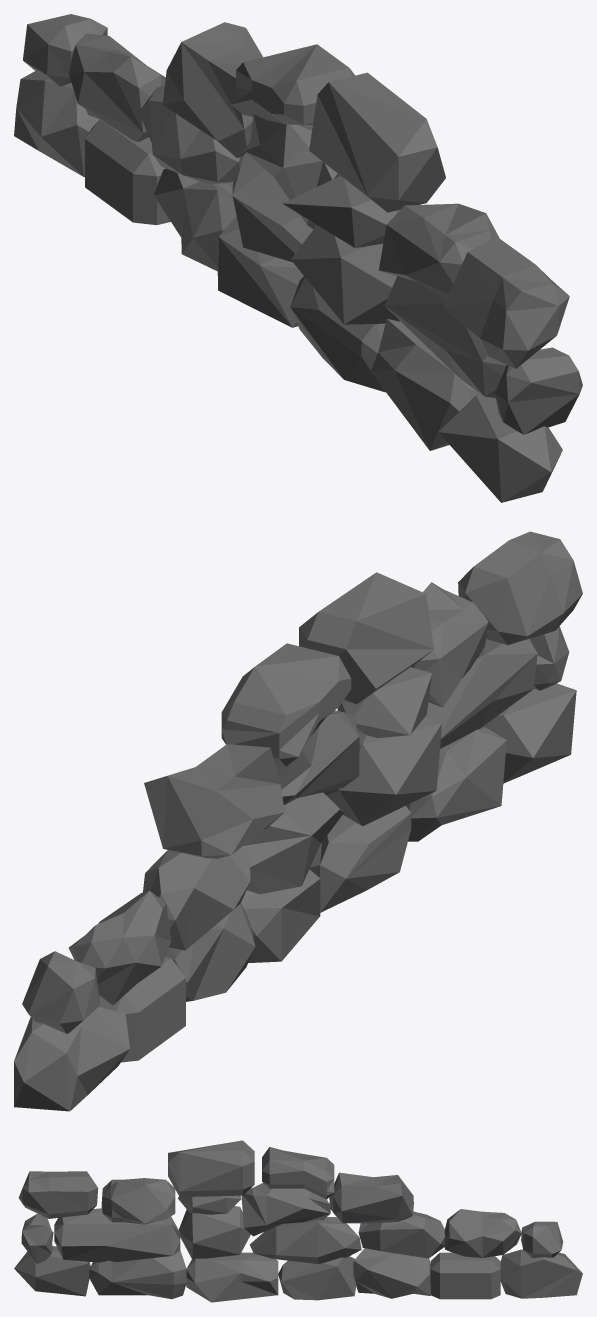
The model's file is aStoneFence.obj.
3 renders of one model, top to bottom at view 1: azimuth 30°, elevation 25°; view 2: azimuth 150°, elevation 25°; view 3: azimuth 270°, elevation 25°, orthographic. The views are drawn at different scales.
Visible parts, largest first — view 1: Fense_4_stone_1_Mesh.037; view 2: Fense_4_stone_1_Mesh.037; view 3: Fense_4_stone_1_Mesh.037.
Boxes of the visible parts, x1,y1,x2,y2 form: Fense_4_stone_1_Mesh.037: (14, 14, 582, 502); Fense_4_stone_1_Mesh.037: (14, 531, 582, 1111); Fense_4_stone_1_Mesh.037: (14, 1140, 582, 1302).
Bounding box in the file's own units: 0.3801 × 0.8478 × 3.
